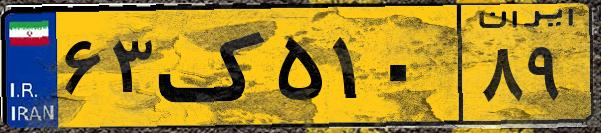0: (385, 28, 445, 110)
1: (330, 28, 385, 110)
3: (110, 28, 158, 98)
5: (270, 28, 330, 110)
6: (57, 26, 110, 100)
8: (475, 38, 525, 113)
9: (525, 38, 570, 115)
ک: (158, 12, 270, 120)
